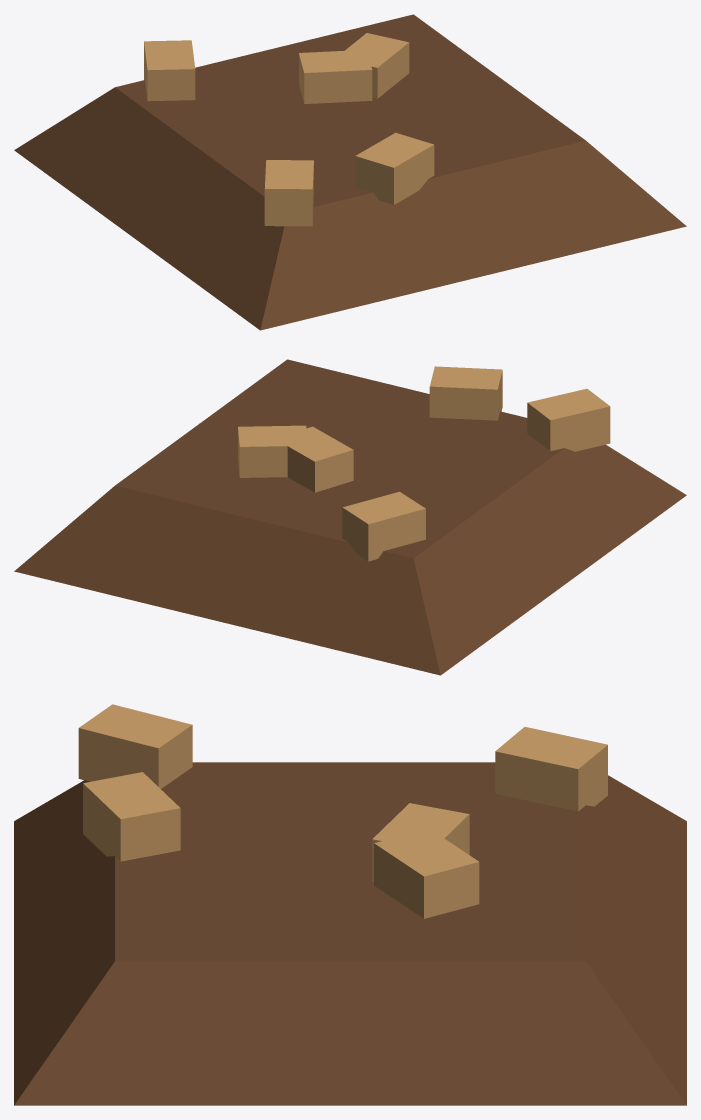
The model's file is potato_0.obj.
3 views of the same model, one above another, from view 1: azimuth 30°, elevation 25°; view 2: azimuth 150°, elevation 25°; view 3: azimuth 270°, elevation 25° (orthographic). The views are drawn at different scales.
Visible parts, largest first — view 1: plant; view 2: plant; view 3: plant.
Boxes of the visible parts, x1,y1,x2,y2 form: plant: (14,14,686,330); plant: (14,359,686,675); plant: (14,704,686,1105).
Size of the model in its own units: 0.36 by 0.085 by 0.36.
